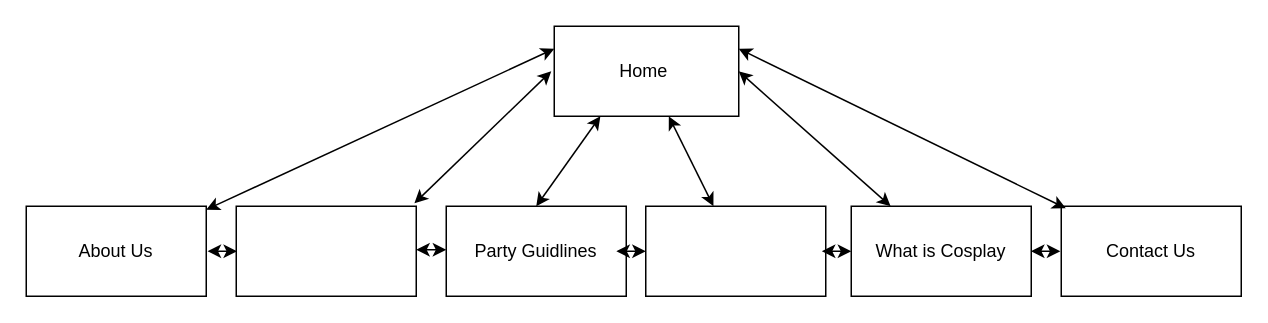
Some shapes in this 1268 by 323 pixel diagram are drawn without their labels. The box of each missing label's shape, as (x1, y1, x2, y2) in pixels:
Events: (235, 205, 416, 296)
Product list: (644, 205, 826, 296)
